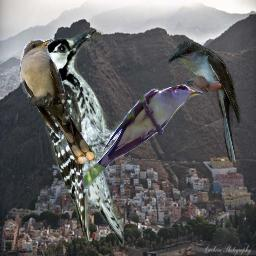Cuckoo: (80, 84, 202, 189), (20, 39, 95, 164), (168, 41, 242, 162)
Woodpecker: (34, 28, 124, 247)
